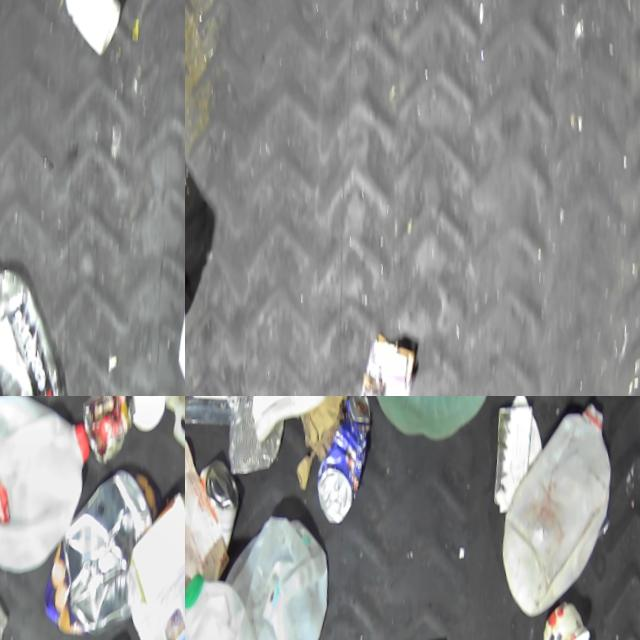can: (309, 396, 381, 532), (74, 396, 147, 477), (223, 396, 291, 477), (192, 457, 248, 551)
milk_jug: (492, 402, 628, 627), (0, 396, 101, 587), (214, 509, 346, 640), (185, 566, 300, 640)
plastic_bottle: (0, 234, 92, 396)
